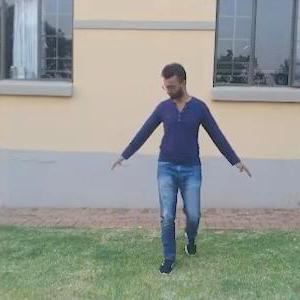land: (87, 50, 253, 263)
